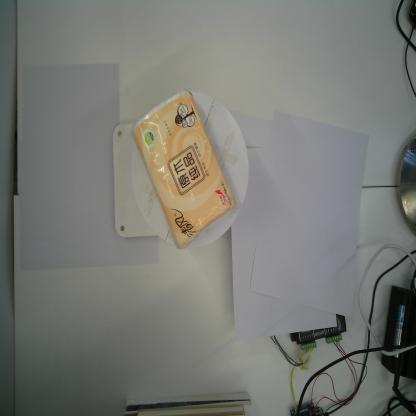Tissue: (129, 88, 237, 252)
